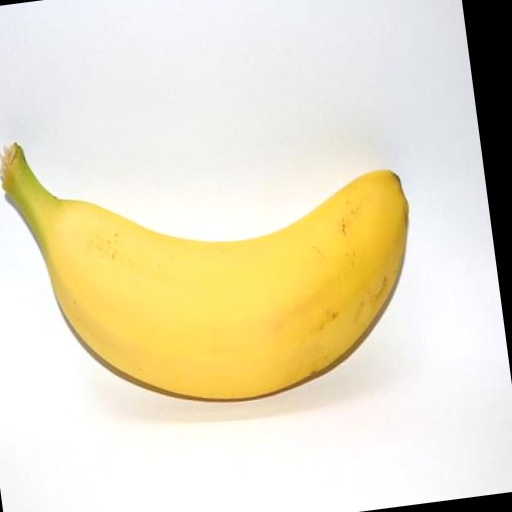fruit: (1, 144, 408, 399)
